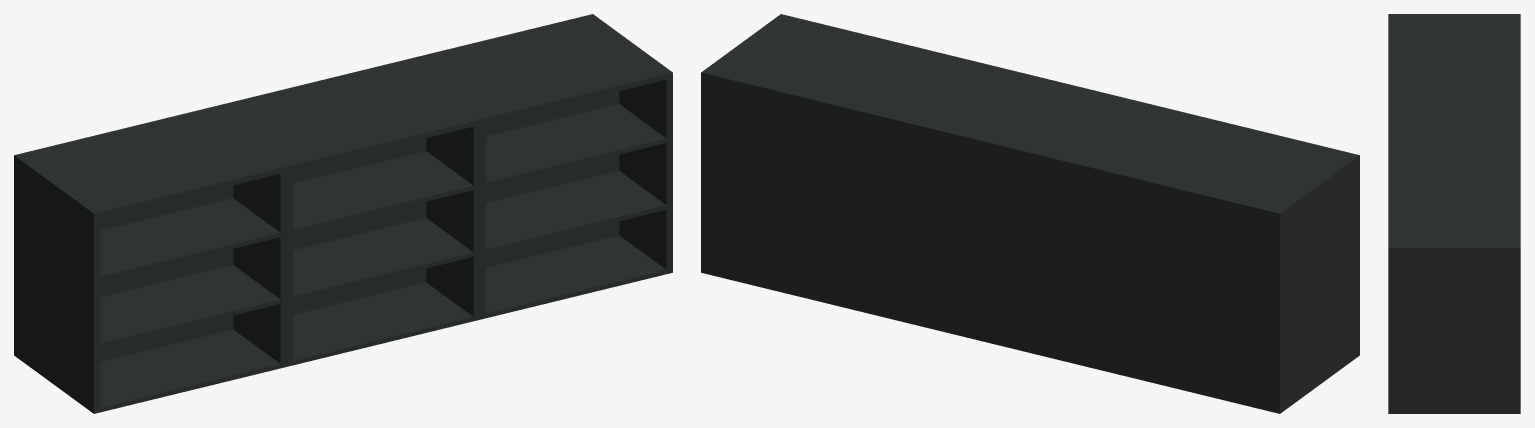
3 renders of one model, left to right at view 1: azimuth 30°, elevation 25°; view 2: azimuth 150°, elevation 25°; view 3: azimuth 270°, elevation 25°, orthographic. The views are drawn at different scales.
Visible parts, largest first — view 1: pCube13; view 2: pCube13; view 3: pCube13.
Boxes of the visible parts, x1,y1,x2,y2 form: pCube13: (14,14,672,413); pCube13: (701,14,1359,413); pCube13: (1388,14,1520,413).
Bounding box in the file's own units: 315 × 104 × 75.46.
